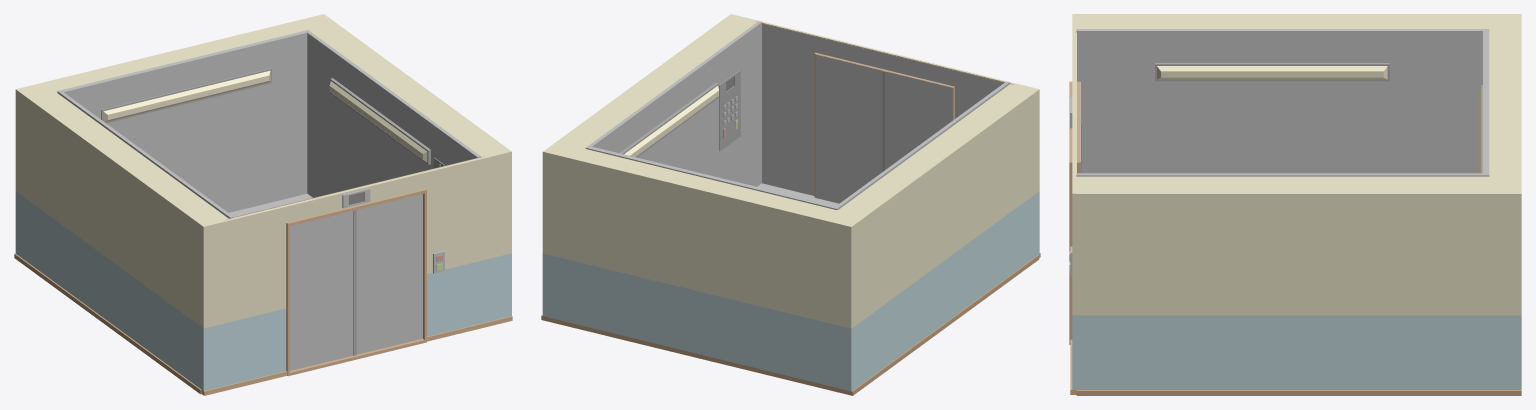
The model's file is Elevator UV.fbx.
3 views of the same model, side by side, from view 1: azimuth 30°, elevation 25°; view 2: azimuth 150°, elevation 25°; view 3: azimuth 270°, elevation 25° (orthographic). The views are drawn at different scales.
Parts seen in each view (by area): view 1: Boole_5, Boole_3, Cube_16_2, Cube_12_2; view 2: Boole_5, Boole_3, Cube_16_2, Cube_12_2; view 3: Boole_5, Boole_3.
Part boxes in pixels (<box>): Boole_5: <box>14,14,512,395</box>; Boole_3: <box>57,30,480,218</box>; Cube_16_2: <box>353,194,422,355</box>; Cube_12_2: <box>290,210,356,370</box>; Boole_5: <box>541,14,1040,395</box>; Boole_3: <box>585,21,1009,209</box>; Cube_16_2: <box>815,54,885,203</box>; Cube_12_2: <box>882,71,953,169</box>; Boole_5: <box>1069,14,1521,395</box>; Boole_3: <box>1076,29,1489,176</box>.
Size of the model in its own units: 173 by 90.04 by 182.
